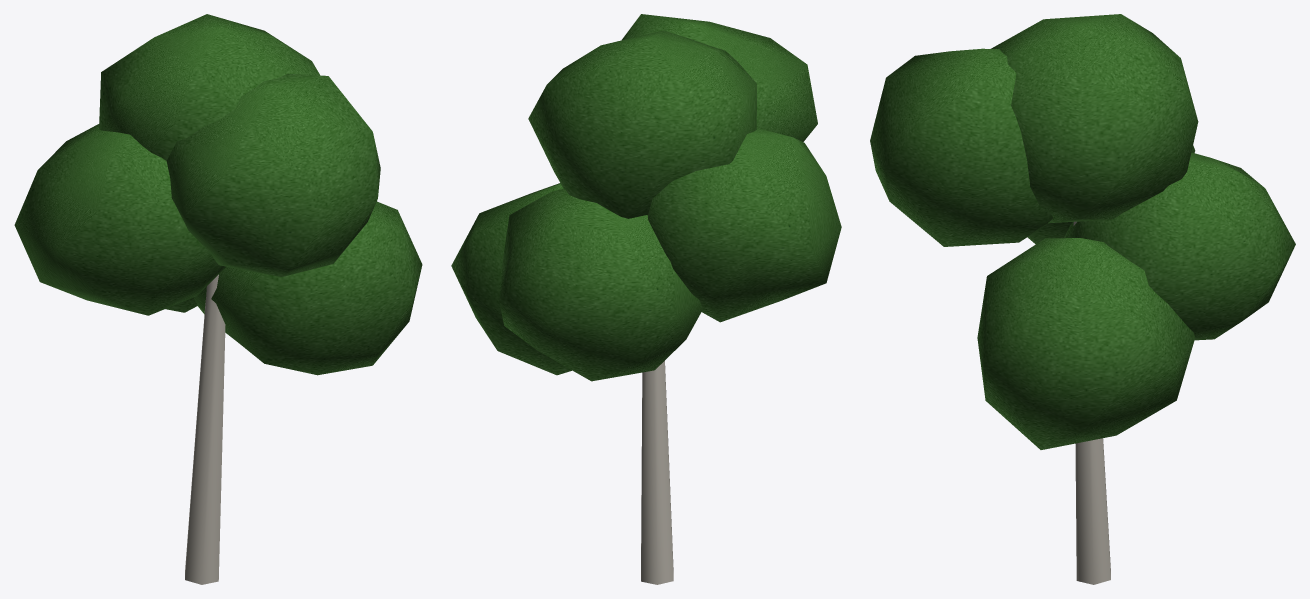
The model's file is ambient_tree_12.glb.
The picture shows the model from 3 angles, left to right: view 1: azimuth 30°, elevation 25°; view 2: azimuth 150°, elevation 25°; view 3: azimuth 270°, elevation 25°; orthographic projection. The views are drawn at different scales.
Parts seen in each view (by area): view 1: ambient_tree_12; view 2: ambient_tree_12; view 3: ambient_tree_12.
Part boxes in pixels (left/top/right/bottom): ambient_tree_12: left=14, top=14, right=422, bottom=584; ambient_tree_12: left=451, top=14, right=841, bottom=584; ambient_tree_12: left=870, top=14, right=1295, bottom=584.
Bounding box in the file's own units: 5.75 × 8.07 × 5.59.
2 materials, 2 textured.
